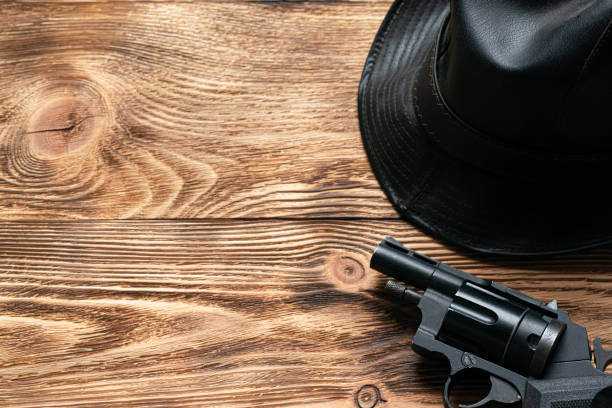gun: (368, 237, 612, 408)
